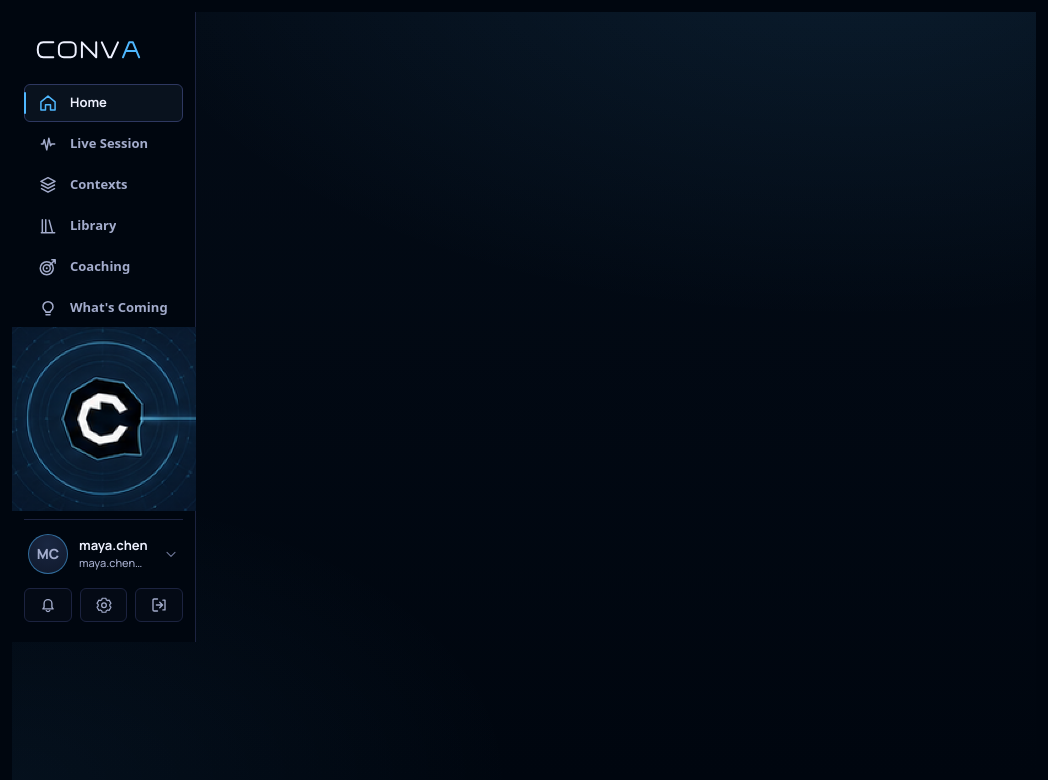
NavRail — account block › shows no unread dot on Notifications — there is no producer yet
Check: the button with aria-label "— account" is shown, box [24, 530, 183, 578]
Click the button named "Notifications": click(48, 605) [24, 588, 72, 622]
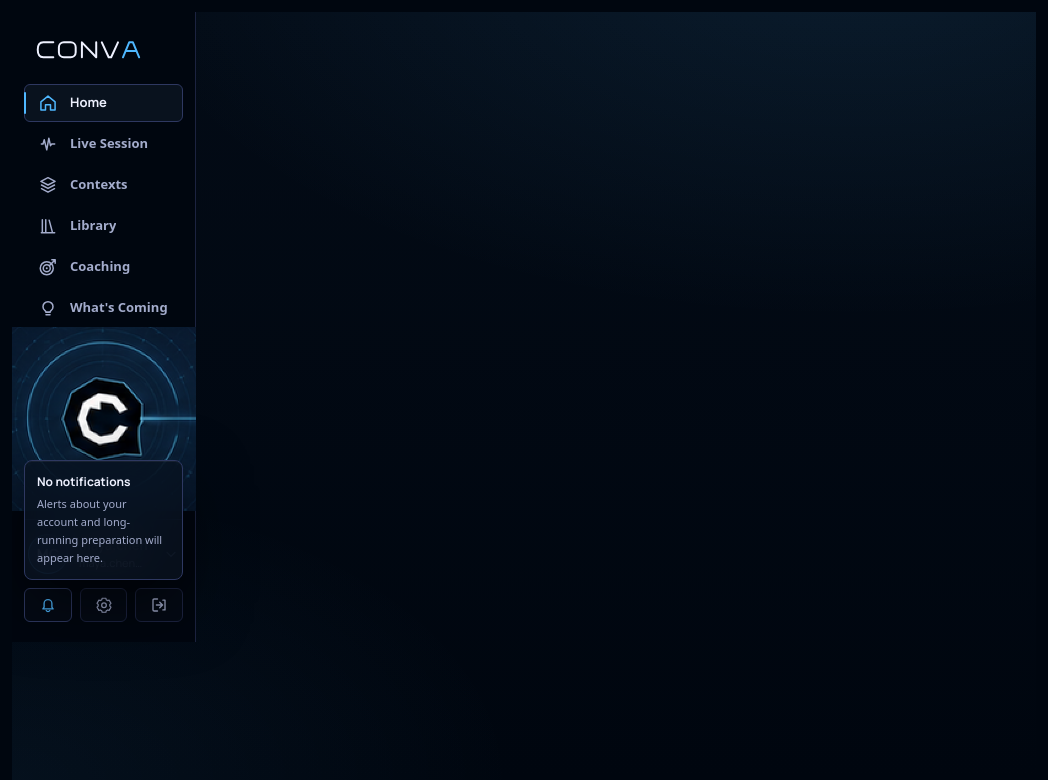
Check: the text "No notifications" is shown, box [37, 473, 131, 490]
